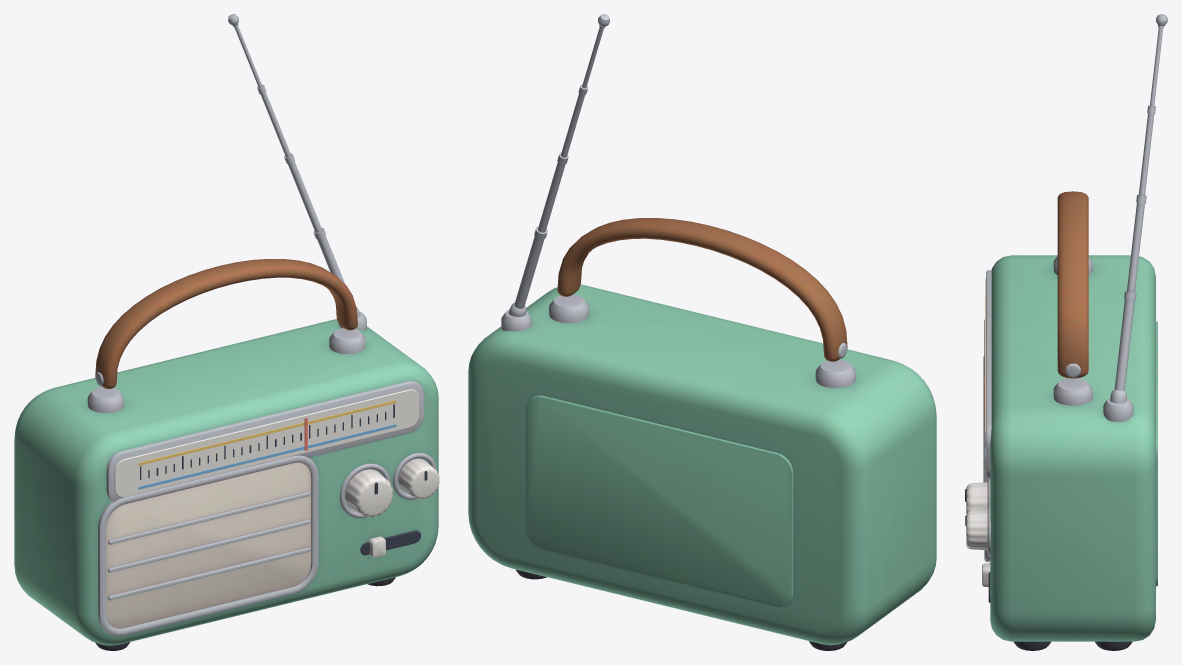
Rendered from retro-radio.glb.
The picture shows the model from 3 angles, left to right: view 1: azimuth 30°, elevation 25°; view 2: azimuth 150°, elevation 25°; view 3: azimuth 270°, elevation 25°; orthographic projection. The views are drawn at different scales.
Parts seen in each view (by area): view 1: body; view 2: body; view 3: body.
Part boxes in pixels (box(x1,y1,x2,y2)): body: box(14, 14, 439, 650); body: box(468, 14, 936, 650); body: box(965, 14, 1167, 650).
Bounding box in the file's own units: 0.3 × 0.4286 × 0.1348.
1 material, 1 textured.
